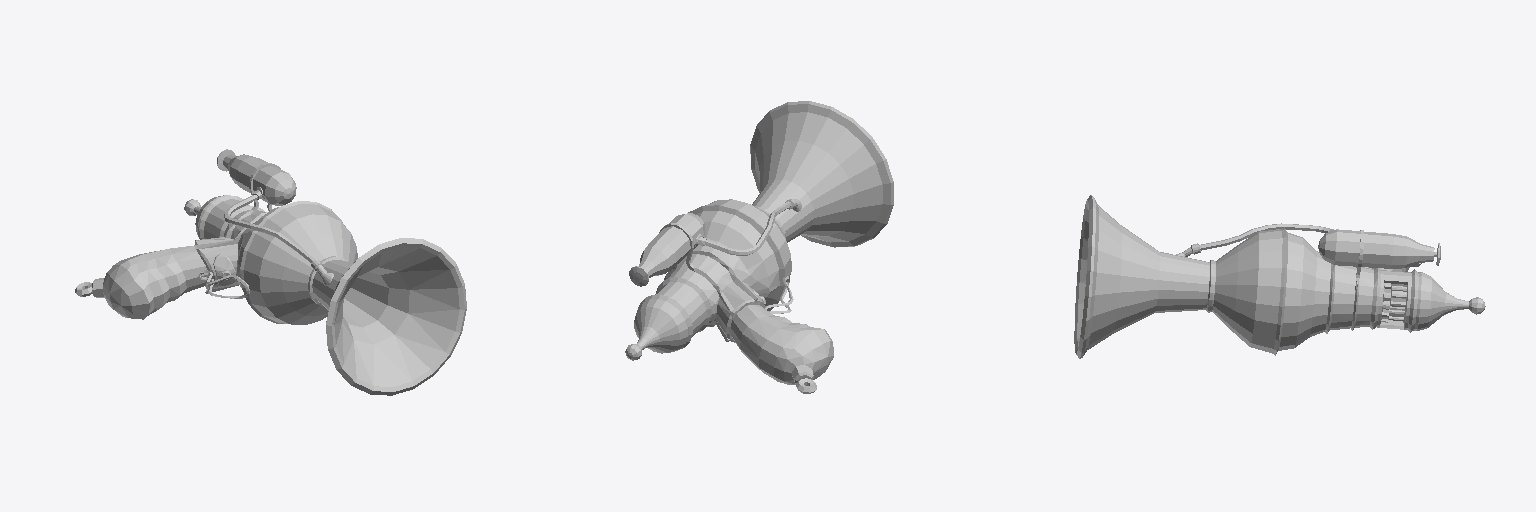
The model's file is gun.obj.
The picture shows the model from 3 angles: view 1: azimuth 30°, elevation 25°; view 2: azimuth 150°, elevation 25°; view 3: azimuth 270°, elevation 25°; orthographic projection.
Parts seen in each view (by area): view 1: arma; view 2: arma; view 3: arma.
Part boxes in pixels (bbox=[...]): arma: bbox=[75, 149, 466, 395]; arma: bbox=[625, 101, 893, 393]; arma: bbox=[1074, 195, 1485, 358].
Size of the model in its own units: 3.24 by 2.01 by 5.05.